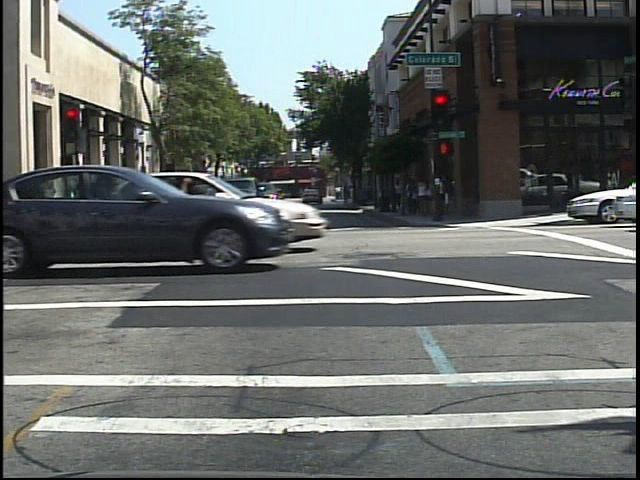person: (100, 179, 119, 225)
